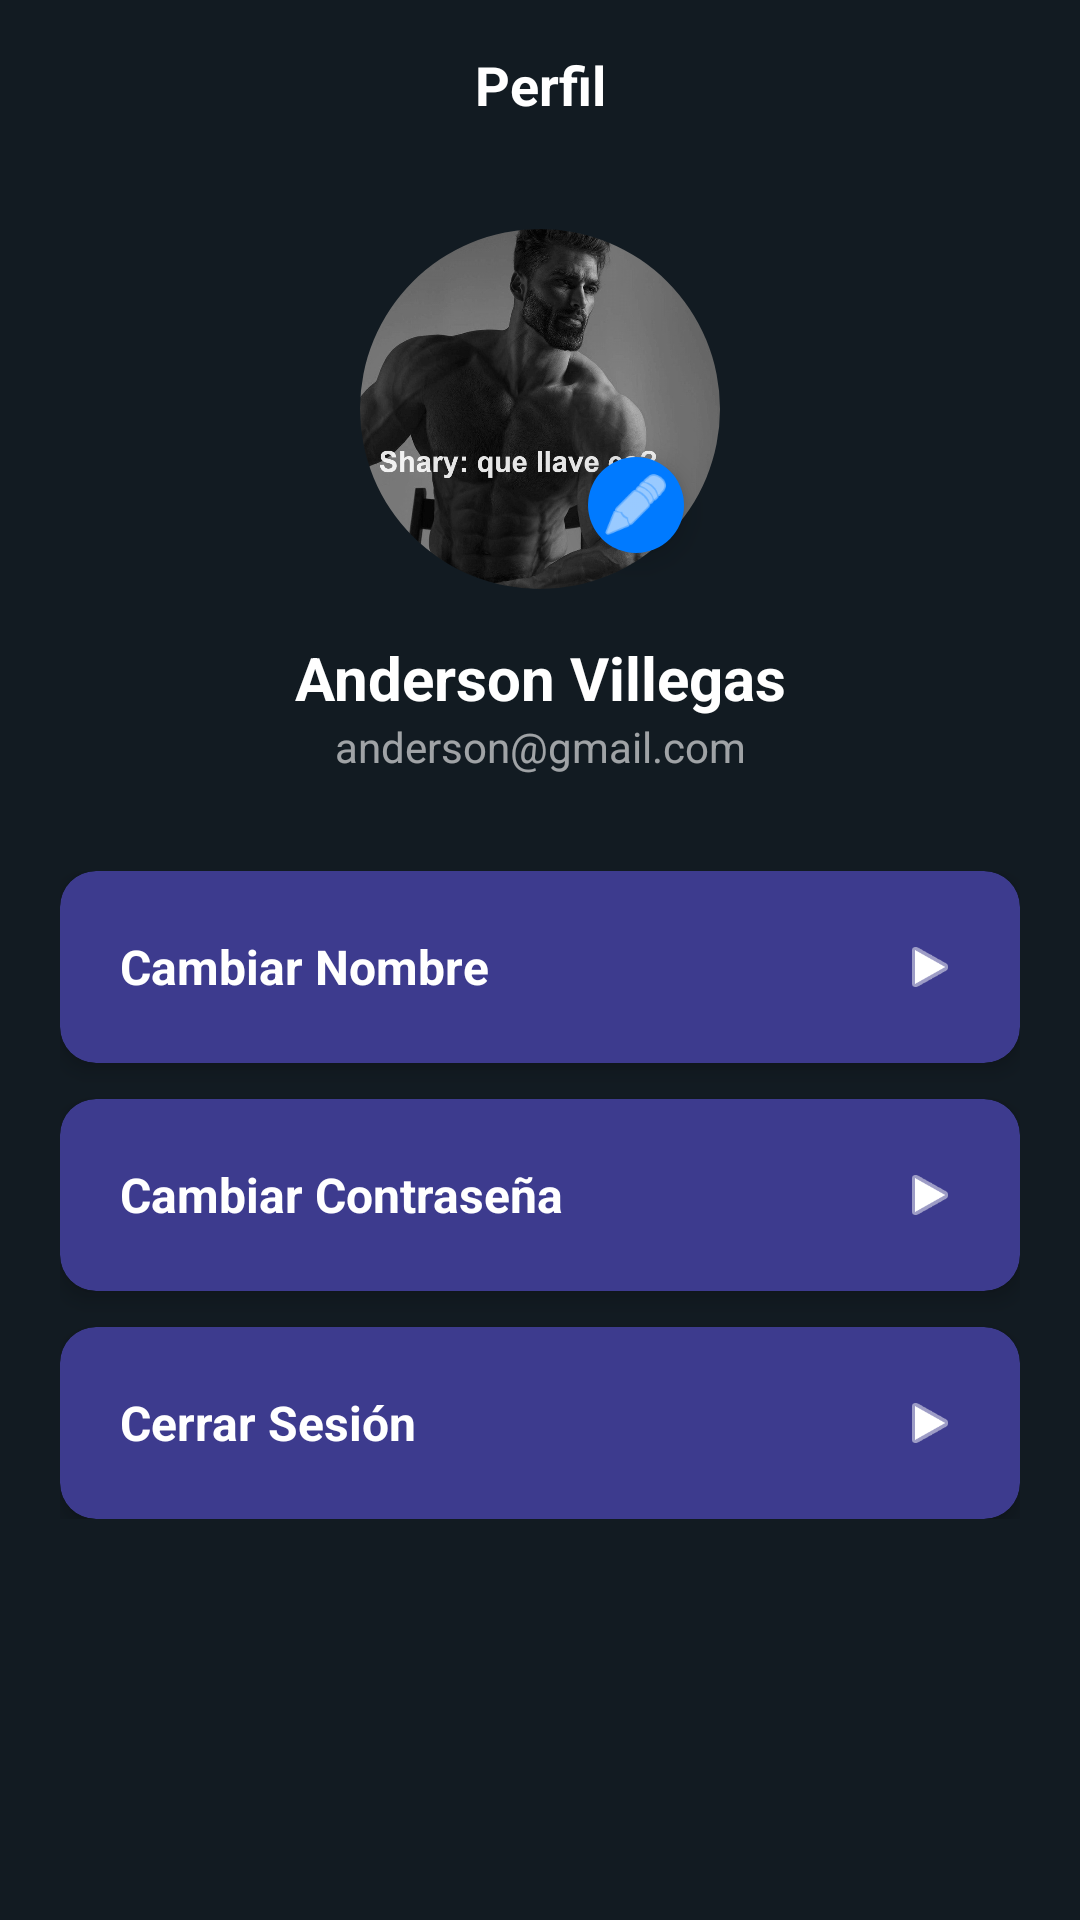

Screen size 1080x1920. Icon name, then its box in pixels as (x1, y1, x2, y2):
play: (912, 947, 948, 987), (912, 1175, 948, 1215), (912, 1403, 948, 1443)
